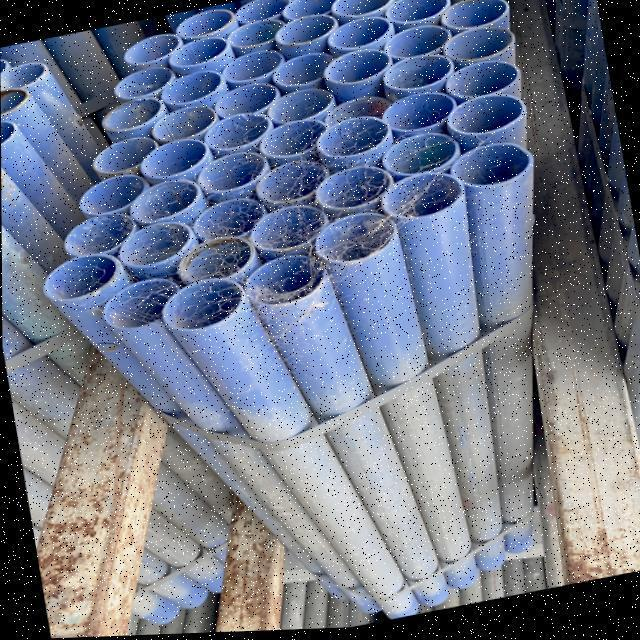pipe: (242, 250, 328, 307), (162, 277, 244, 330), (253, 155, 332, 210), (317, 212, 398, 265), (75, 171, 162, 219), (102, 277, 182, 329), (196, 147, 267, 204), (384, 172, 464, 222), (62, 209, 141, 259), (246, 205, 326, 254), (189, 200, 276, 245), (176, 233, 254, 283), (43, 252, 119, 302), (447, 146, 531, 191), (382, 129, 459, 178), (117, 219, 191, 269), (380, 93, 457, 141), (317, 165, 392, 213), (443, 97, 526, 140), (436, 61, 518, 104), (89, 135, 167, 180), (127, 179, 203, 224), (258, 121, 330, 168), (317, 118, 390, 164), (140, 136, 212, 181), (269, 52, 348, 92), (203, 114, 274, 157), (263, 86, 336, 127), (111, 58, 179, 102), (150, 102, 221, 144), (375, 27, 460, 62), (382, 57, 460, 95), (208, 83, 285, 119), (102, 96, 167, 138), (223, 49, 287, 90), (443, 23, 508, 63), (274, 15, 346, 51), (326, 49, 393, 87), (434, 0, 504, 36), (160, 69, 224, 108), (229, 14, 289, 52), (167, 37, 230, 72), (320, 99, 394, 128), (175, 7, 240, 40), (331, 17, 392, 52), (124, 31, 184, 66), (388, 0, 452, 30), (0, 59, 47, 88), (288, 0, 344, 23), (335, 0, 398, 20), (240, 0, 290, 23), (1, 86, 29, 115)
